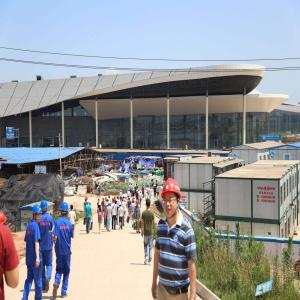blue: (32, 204, 43, 224), (61, 202, 70, 219), (41, 199, 49, 215)
none: (146, 199, 152, 211), (71, 205, 75, 212), (137, 190, 139, 194), (134, 190, 136, 193)
red: (163, 178, 182, 218), (137, 201, 140, 207), (113, 199, 116, 205), (133, 199, 136, 204), (122, 197, 125, 202), (103, 198, 106, 203), (85, 198, 88, 203), (98, 199, 101, 203), (106, 198, 108, 203), (109, 196, 111, 200), (118, 196, 120, 200)
white: (119, 203, 123, 209), (109, 202, 112, 208), (99, 203, 102, 209), (88, 201, 91, 206), (129, 197, 132, 201), (141, 190, 143, 194), (147, 191, 149, 195), (121, 190, 123, 194), (129, 189, 131, 193)
